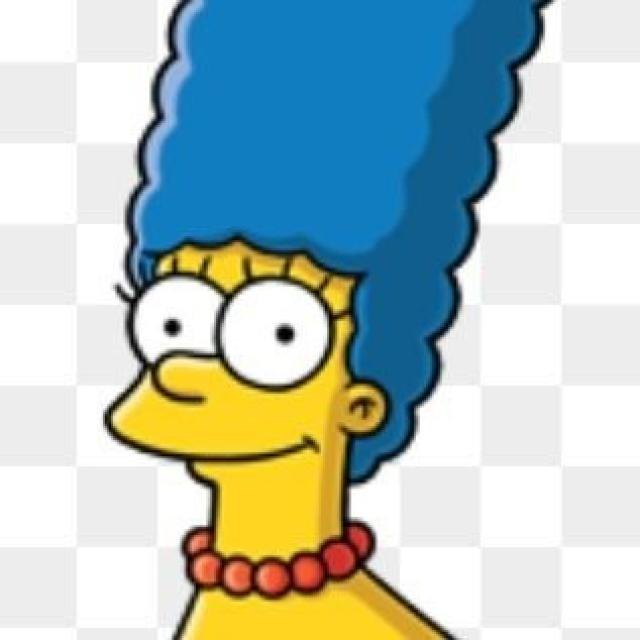Marge Simpson: (95, 1, 551, 609)
